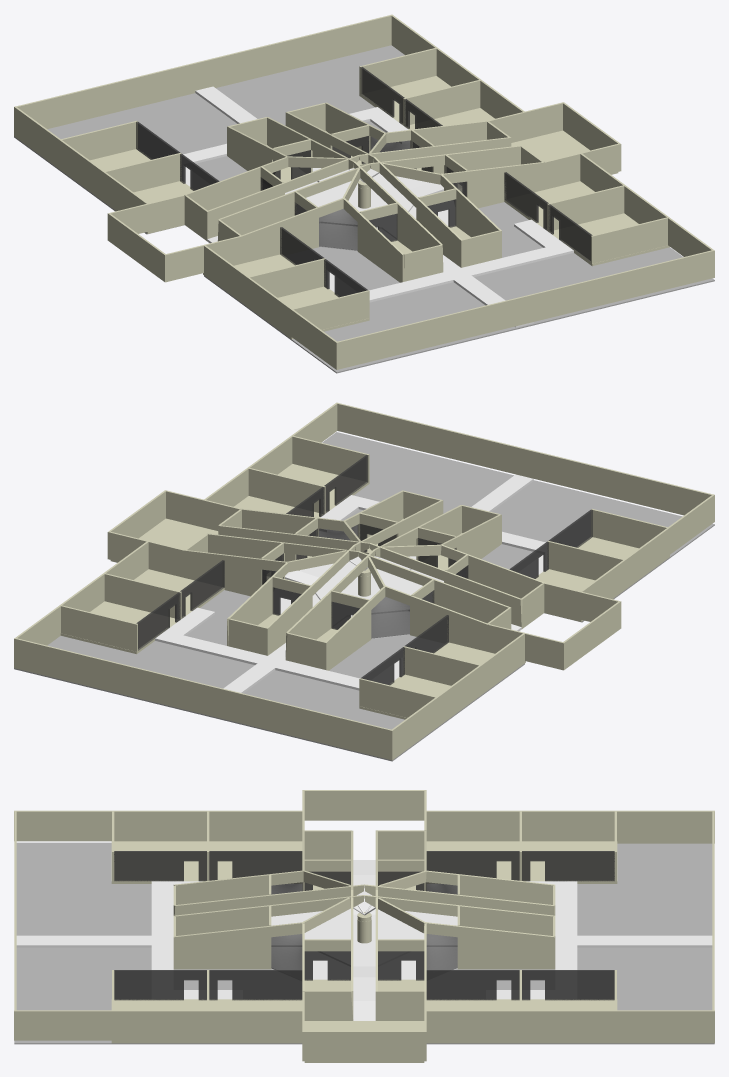
The model's file is cyborg_facility.fbx.
3 views of the same model, one above another, from view 1: azimuth 30°, elevation 25°; view 2: azimuth 150°, elevation 25°; view 3: azimuth 270°, elevation 25° (orthographic). The views are drawn at different scales.
Parts seen in each view (by area): view 1: Object 30 Copy, Object 30, Object 9 Copy 34, Object 9 Copy 39, Object 21 Copy, Object 9 Copy 31, Object 9 Copy 22, Object 21, Object 9 Copy 20, Object 9 Copy 36, Object 9 Copy 25, Object 9 Copy 16 (+63 smaller); view 2: Object 30 Copy, Object 30, Object 9 Copy 34, Object 9 Copy 39, Object 21, Object 9 Copy 28, Object 9 Copy 27, Object 9 Copy 25, Object 21 Copy, Object 9 Copy 15, Object 9 Copy 20, Object 9 Copy 9 (+63 smaller); view 3: Object 30 Copy, Object 30, Object 21, Object 21 Copy, Object 9 Copy 26, Object 9 Copy 23, Object 9 Copy 21, Object 9 Copy 11, Object 2 Copy 17, Object 2 Copy 16, Object 2 Copy 22, Object 2 Copy 23 (+56 smaller).
Part boxes in pixels (x1,y1,x2,y2): Object 30 Copy: [204, 202, 714, 373]; Object 30: [14, 45, 409, 234]; Object 9 Copy 34: [16, 15, 391, 129]; Object 9 Copy 39: [338, 250, 712, 369]; Object 21 Copy: [321, 200, 573, 327]; Object 9 Copy 31: [240, 197, 344, 263]; Object 9 Copy 22: [440, 162, 545, 206]; Object 21: [183, 86, 399, 206]; Object 9 Copy 20: [217, 163, 370, 241]; Object 9 Copy 36: [591, 217, 667, 263]; Object 9 Copy 25: [206, 155, 359, 238]; Object 9 Copy 16: [370, 145, 522, 190]; Object 30 Copy: [319, 432, 714, 622]; Object 30: [14, 590, 524, 761]; Object 9 Copy 34: [16, 638, 390, 759]; Object 9 Copy 39: [337, 403, 712, 515]; Object 21: [155, 588, 407, 693]; Object 9 Copy 28: [384, 585, 487, 651]; Object 9 Copy 27: [183, 550, 288, 594]; Object 9 Copy 25: [358, 551, 511, 629]; Object 21 Copy: [329, 474, 545, 594]; Object 9 Copy 15: [61, 605, 137, 651]; Object 9 Copy 20: [369, 543, 522, 626]; Object 9 Copy 9: [104, 573, 181, 619]; Object 30 Copy: [14, 842, 302, 1044]; Object 30: [426, 843, 714, 1044]; Object 21: [378, 881, 712, 969]; Object 21 Copy: [16, 881, 350, 969]; Object 9 Copy 26: [173, 922, 304, 966]; Object 9 Copy 23: [424, 922, 555, 966]; Object 9 Copy 21: [304, 790, 424, 820]; Object 9 Copy 11: [304, 1031, 424, 1061]; Object 2 Copy 17: [617, 1010, 714, 1043]; Object 2 Copy 16: [617, 810, 714, 843]; Object 2 Copy 22: [14, 810, 111, 841]; Object 2 Copy 23: [14, 1010, 111, 1040].
Bounding box in the file's own units: 61521 × 75401 × 6475.
